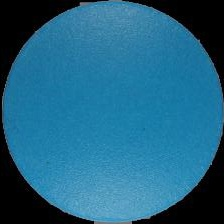49999-311: (0, 0, 224, 224)
